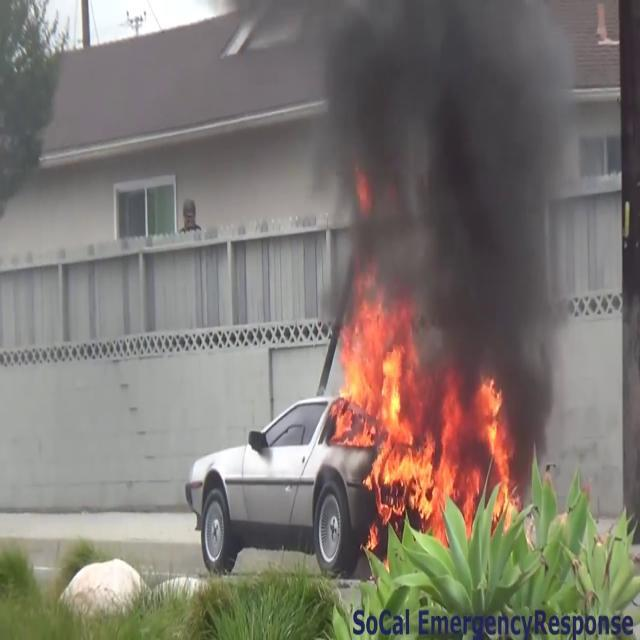Fire: (328, 298, 518, 537)
Smoke: (298, 1, 584, 393)
